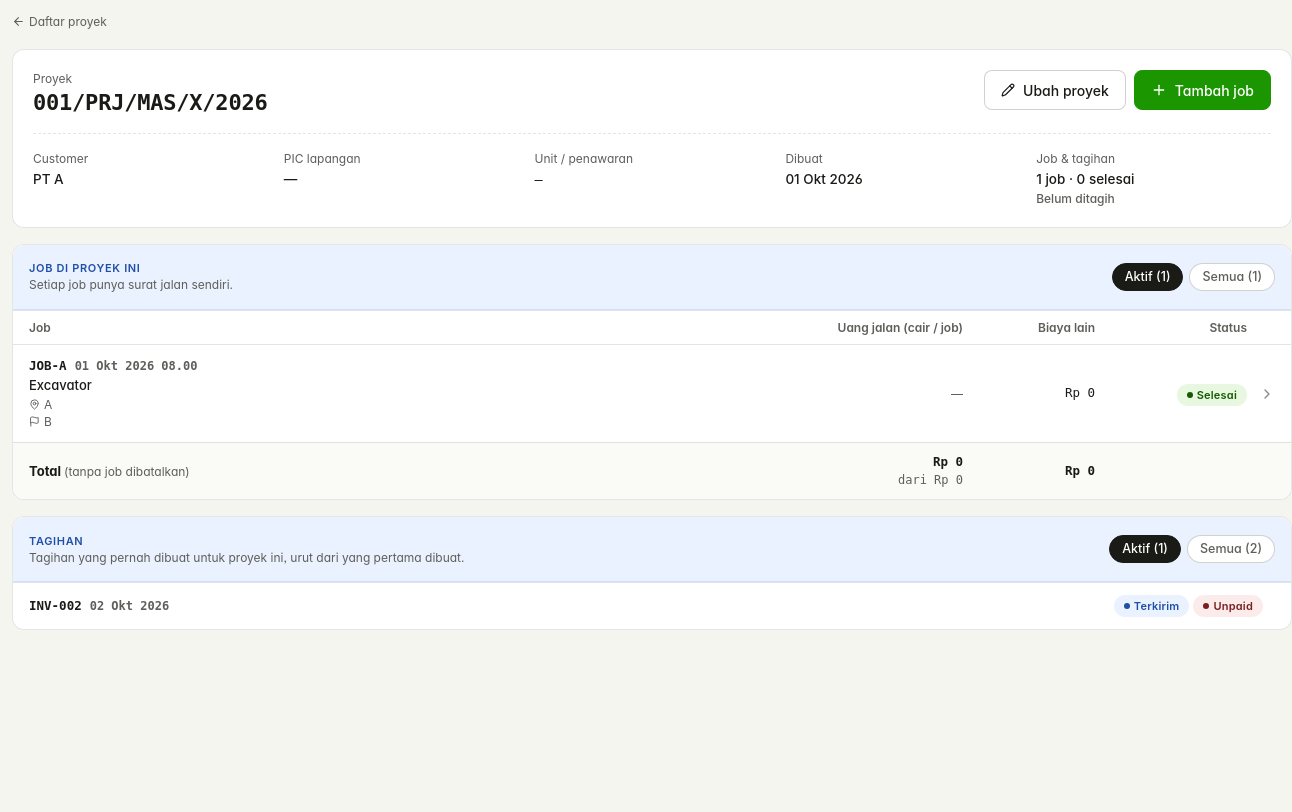
Scenario: daftar tagihan proyek › sukses: di Semua, tagihan urut dari backend, yang batal kelihatan beserta alasannya
Click the button "Semua (2)". click: (1231, 550)
box: [1187,536,1275,564]
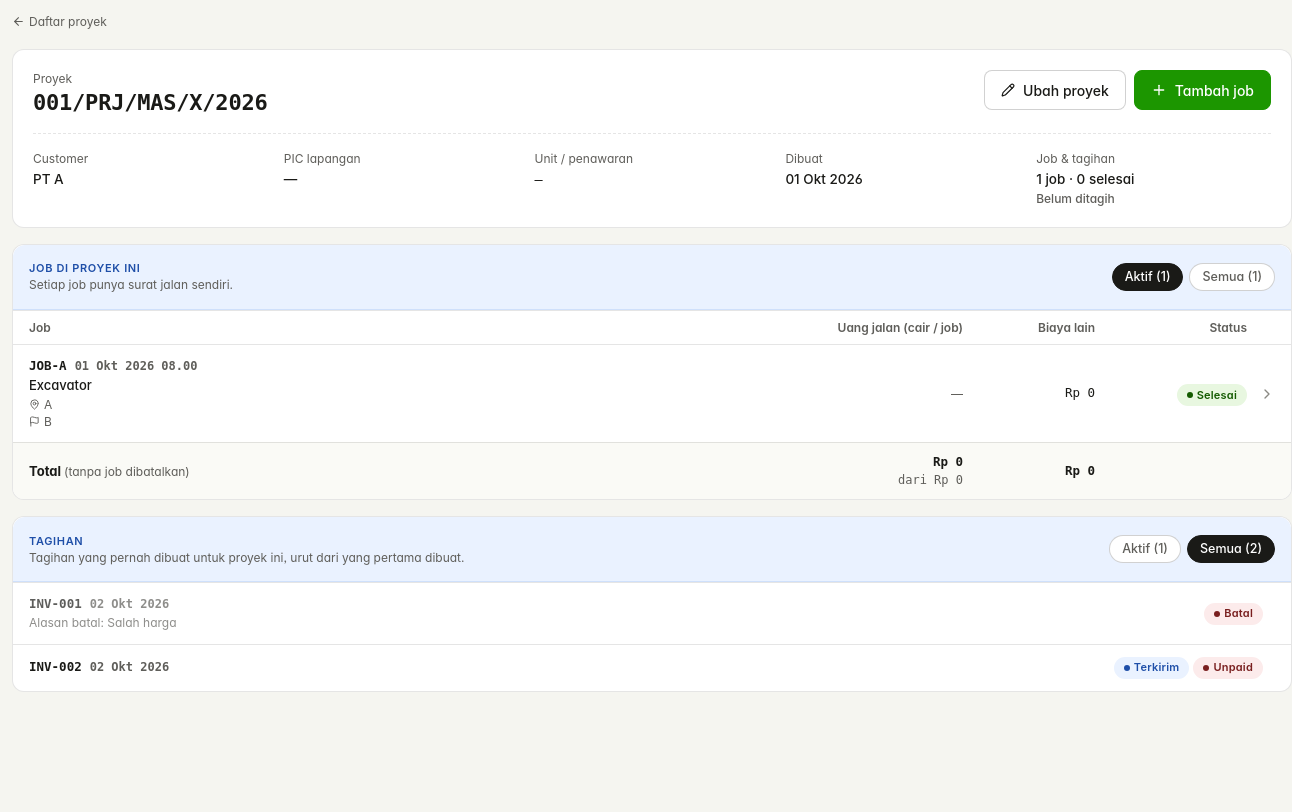
Expected: the text "Alasan batal: Salah harga" is shown, [29,615,176,630]
